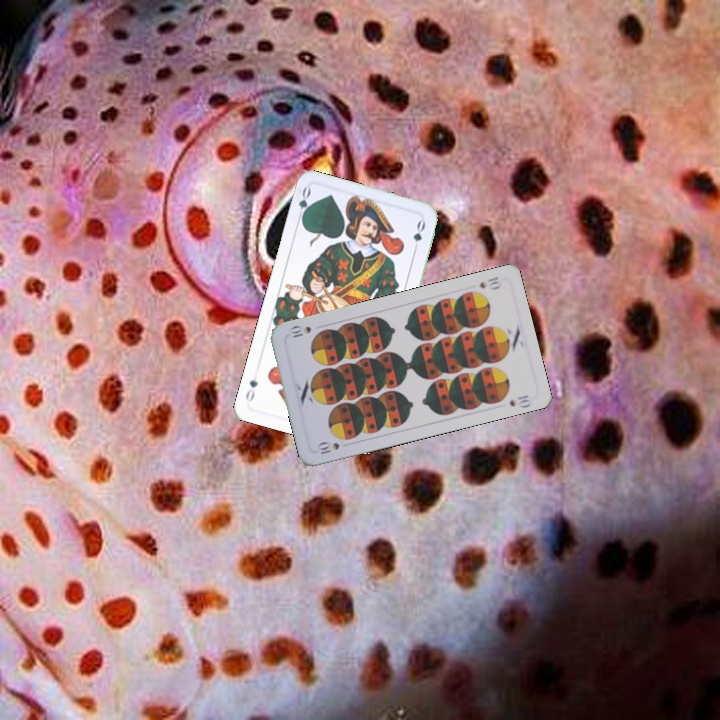GO: (293, 183, 314, 225)
S10: (313, 438, 342, 458), (475, 273, 505, 292)
